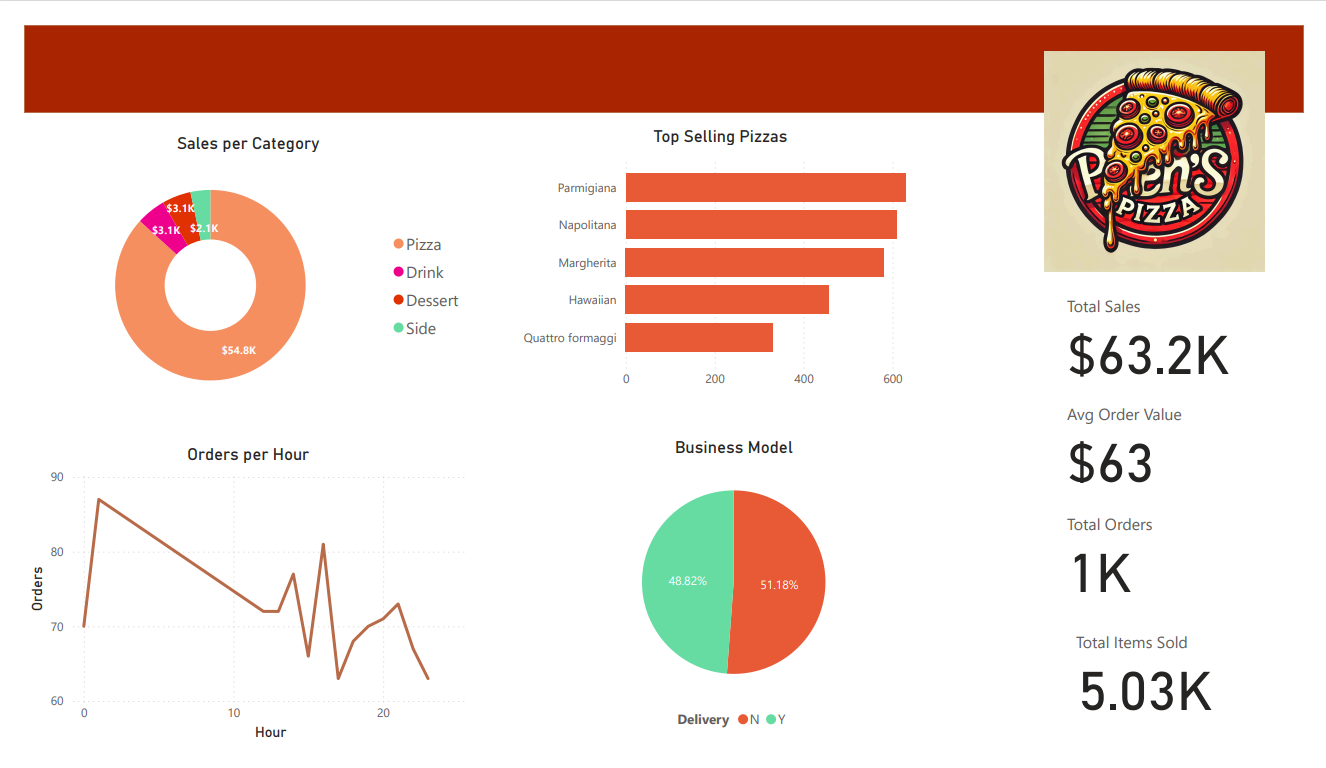

The page's visual inventory and layout, read from the dashboard file:
{"tool":"powerbi","page":{"name":"Page 1","canvas":[1280,720],"ordinal":0},"visuals":[{"type":"cardVisual","fields":{"Data":["Count(orders_table.order_id)"]},"box":[1026,463.5,149.2,139.4],"z":0},{"type":"cardVisual","fields":{"Data":["items_table.Rounded Total Sales"]},"box":[1026,251.9,210.3,107.6],"z":1000},{"type":"cardVisual","fields":{"Data":["Sum(orders_table.quantity)"]},"box":[1034.5,580.8,193.2,139.4],"z":2000},{"type":"cardVisual","fields":{"Data":["items_table.Average Order Value"]},"box":[1026,359.5,182.2,103.9],"z":3000},{"type":"donutChart","title":"Sales per Category","fields":{"Category":["items_table.item_cat"],"Y":["items_table.Rounded Total Sales"]},"box":[0,107.6,448.8,288.6],"z":4000},{"type":"barChart","title":"Top Selling Pizzas","fields":{"Category":["items_table.item_name","items_table.sku"],"Y":["Sum(orders_table.quantity)"]},"box":[464.7,101.5,463.5,284.9],"z":5000},{"type":"lineChart","title":"Orders per Hour","fields":{"Category":["orders_table.Hour"],"Y":["Count(orders_table.order_id)"]},"box":[0,419.4,448.8,300.8],"z":6000},{"type":"pieChart","title":"Business Model","fields":{"Category":["orders_table.delivery"],"Y":["CountNonNull(orders_table.delivery)"]},"box":[500.1,412.1,419.4,300.8],"z":7000},{"type":"shape","box":[0,0,1280.3,88],"z":8000},{"type":"image","box":[1015,20.8,231.1,231.1],"z":9000}]}

Visuals, with their boxes in screenshot pixels (x1, y1, x2, y2), scaled from the page's 1280x720 canvas onto the 1326x768 screenshot:
cardVisual - Count(orders_table.order_id): bbox=(1063, 494, 1217, 643)
cardVisual - items_table.Rounded Total Sales: bbox=(1063, 269, 1281, 383)
cardVisual - Sum(orders_table.quantity): bbox=(1072, 620, 1272, 767)
cardVisual - items_table.Average Order Value: bbox=(1063, 383, 1252, 494)
"Sales per Category" donutChart: bbox=(0, 115, 465, 423)
"Top Selling Pizzas" barChart: bbox=(481, 108, 962, 412)
"Orders per Hour" lineChart: bbox=(0, 447, 465, 767)
"Business Model" pieChart: bbox=(518, 440, 953, 760)
shape: bbox=(0, 0, 1325, 94)
image: bbox=(1051, 22, 1291, 269)
